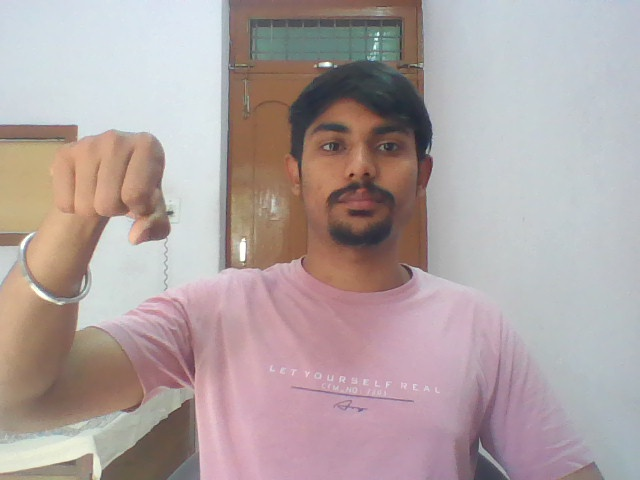Yes: (45, 127, 186, 246)
